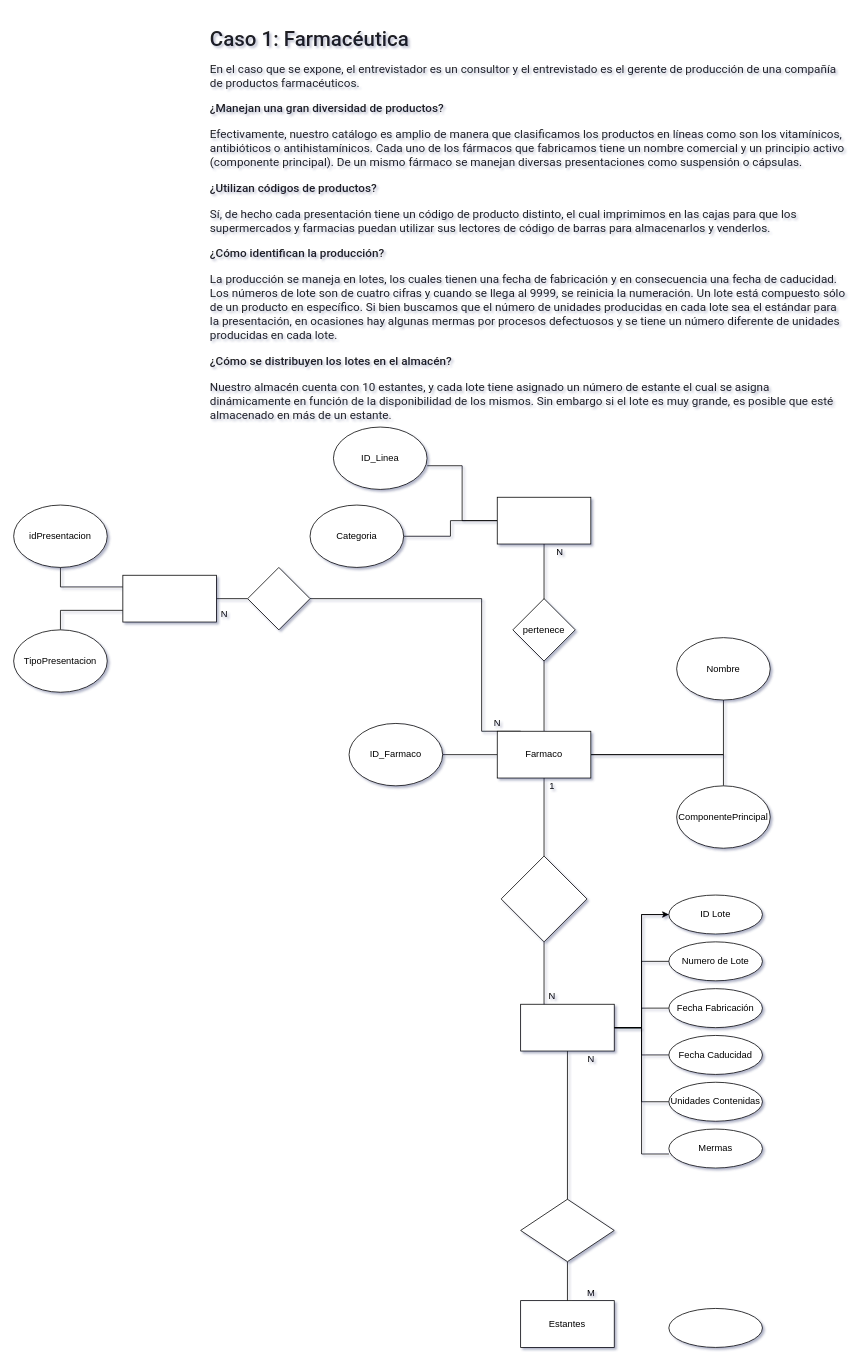
Some shapes in this 867 by 1366 pixel diagram are drawn without their labels. Here are the shapes that lost their labels. From the top down, the box of each, then its label:
(496, 496, 591, 544): Linea
(122, 574, 216, 622): Presentacion
(247, 567, 310, 630): tiene
(500, 855, 587, 942): Almacenamiento
(520, 1003, 614, 1051): Lotes
(520, 1198, 614, 1262): Se almacena en
(668, 1308, 762, 1347): idEstantes
